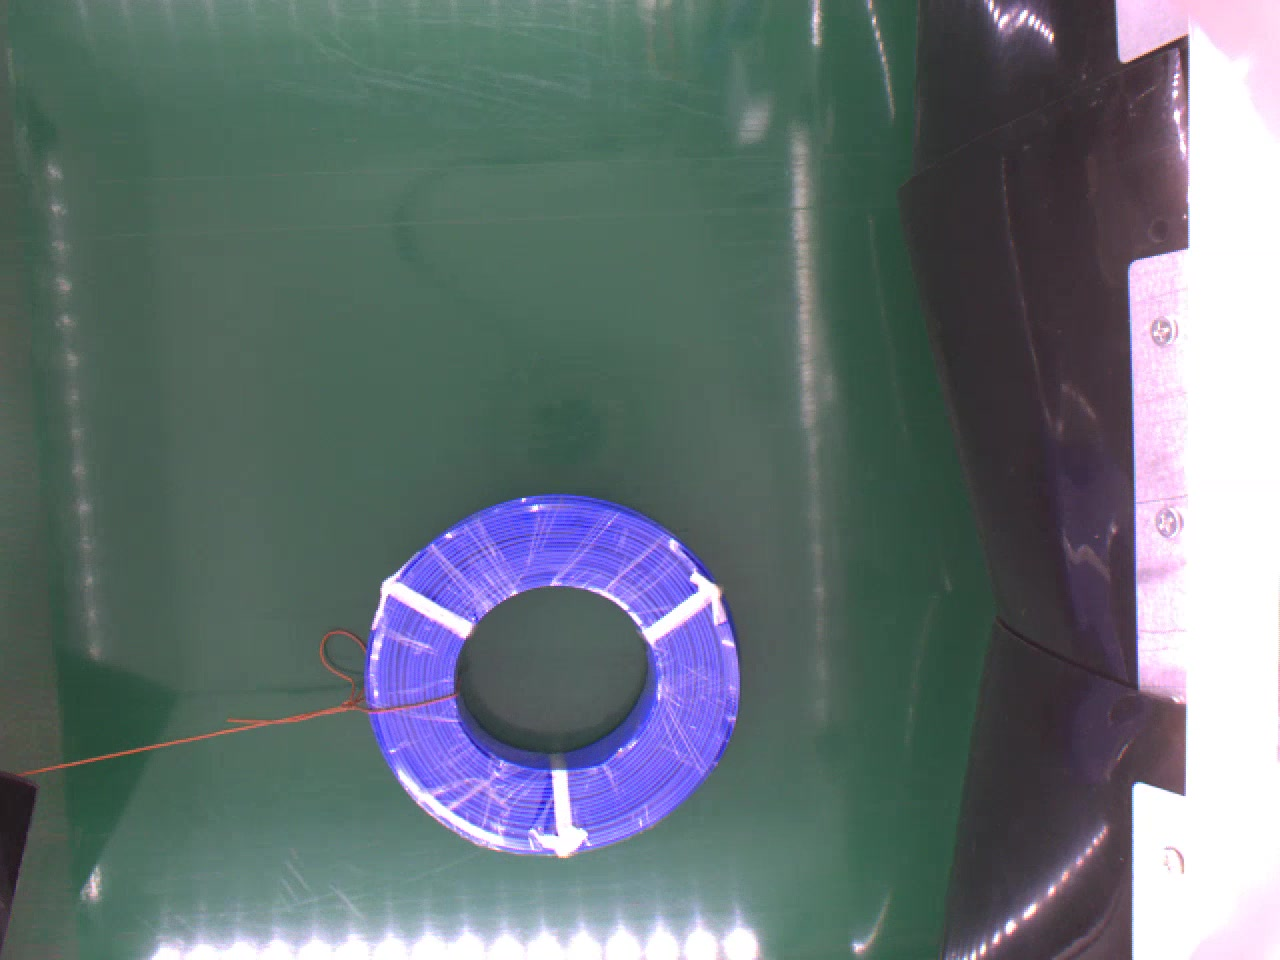blue: (360, 487, 743, 859)
